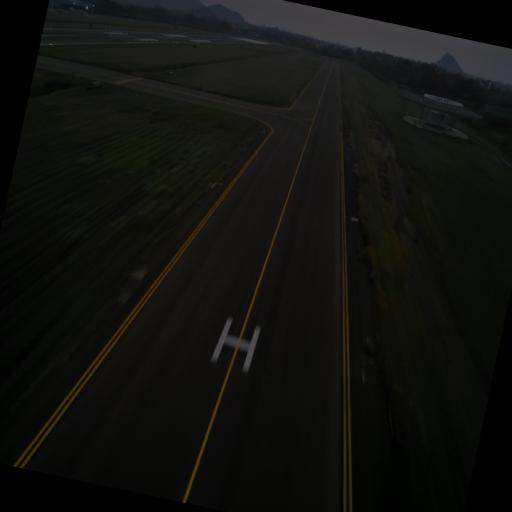on: (137, 263, 148, 280), (363, 332, 372, 345)
